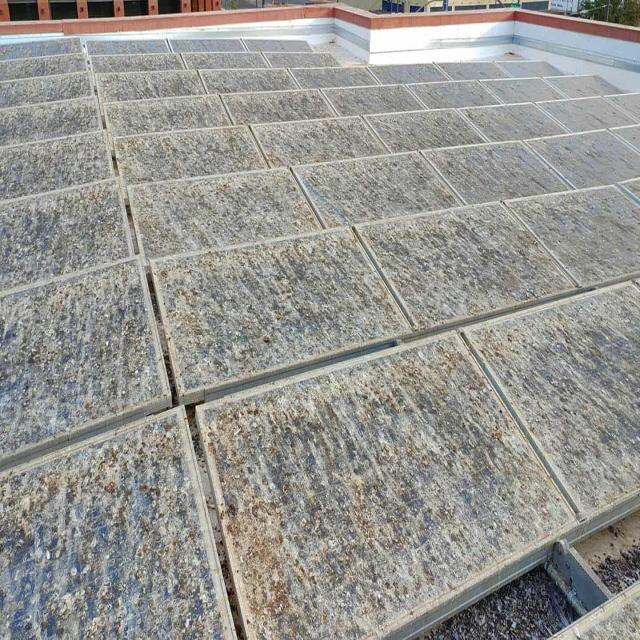dust-solar-panel: (0, 36, 640, 640)
